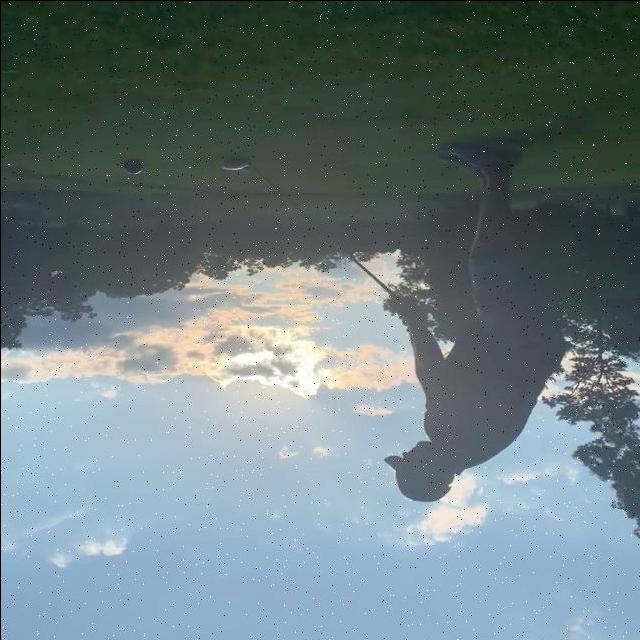golf club-handle: (220, 158, 400, 299)
golf club-head: (219, 158, 249, 169)
